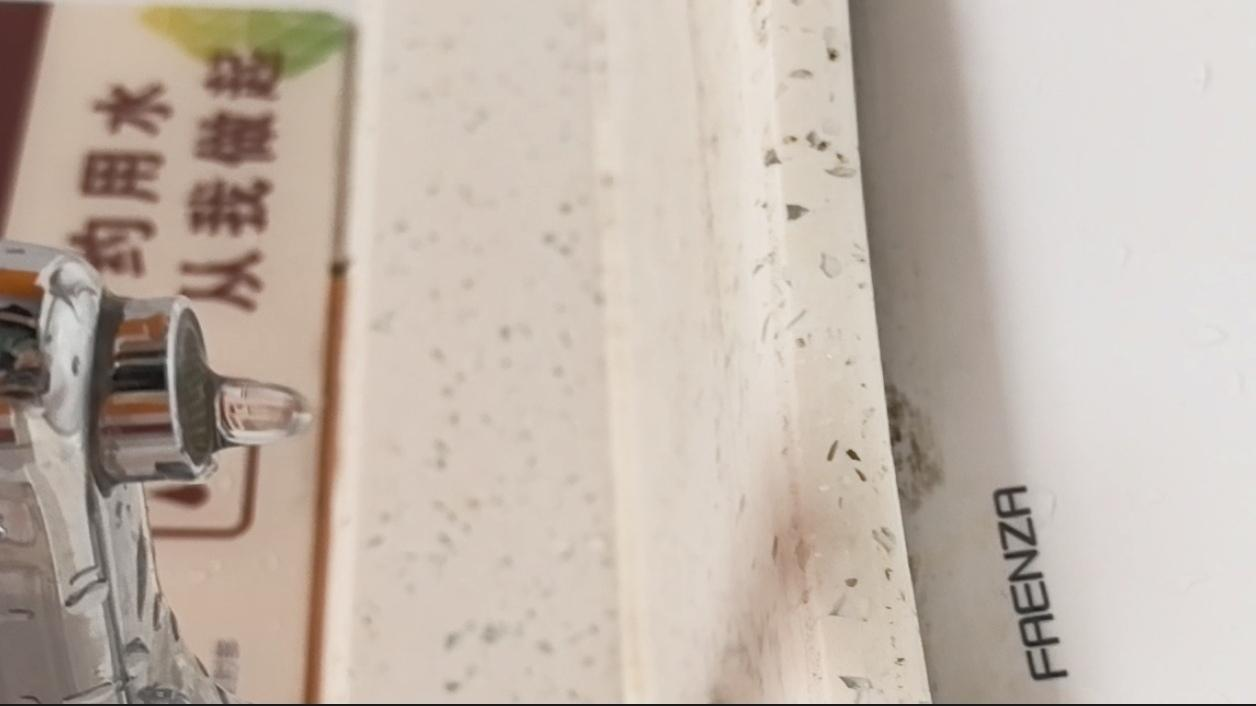water drop: (194, 377, 313, 454)
